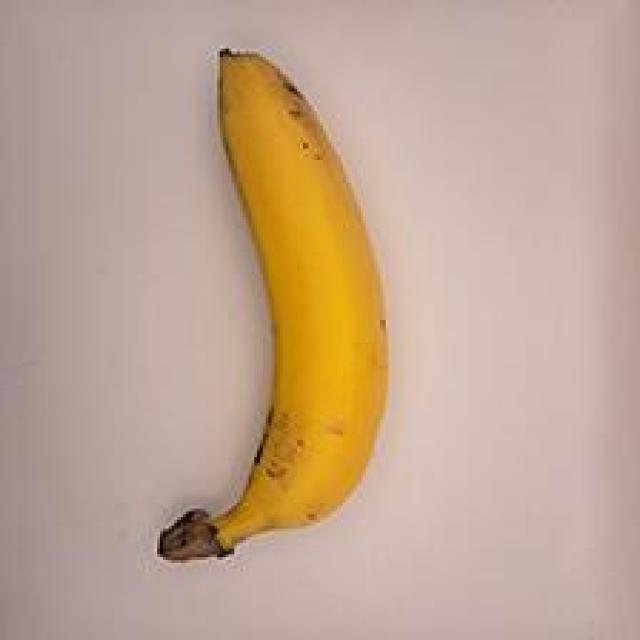Ripe: (126, 41, 394, 574)
